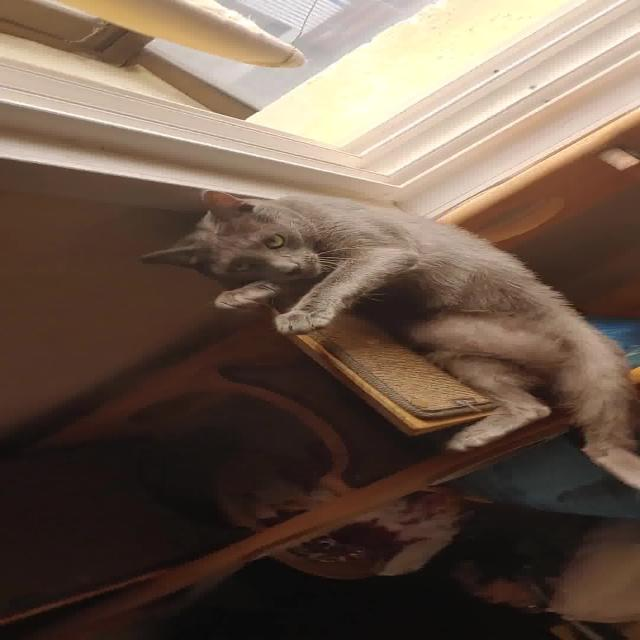cat: (121, 169, 640, 474)
